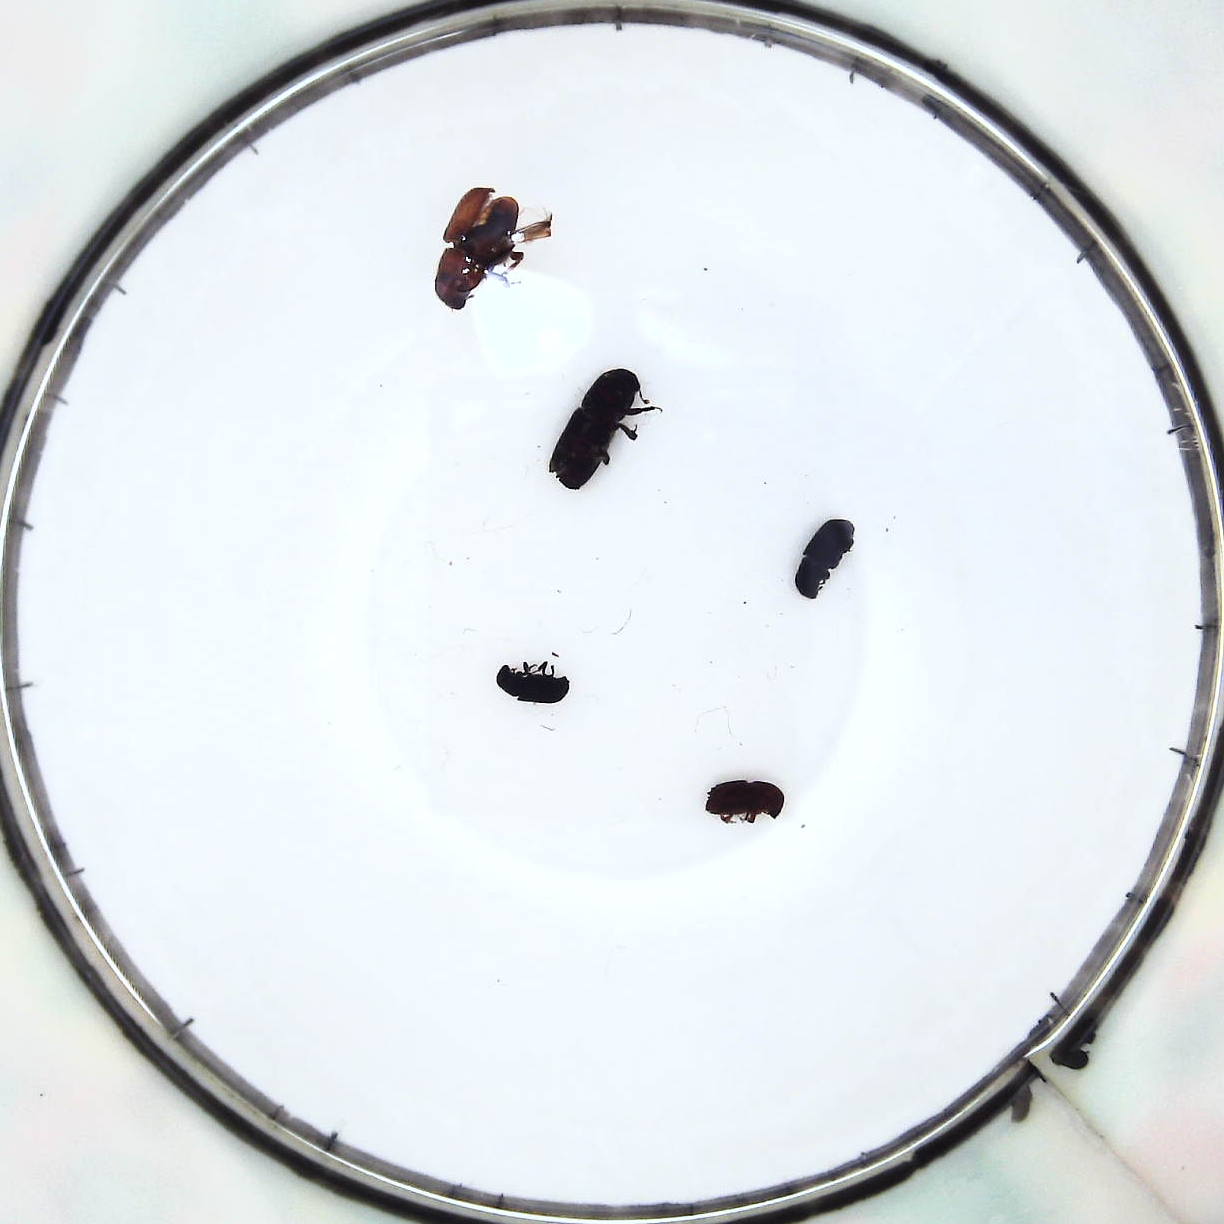Boerner: (551, 370, 647, 494)
Leconte: (432, 182, 549, 304)
Linnaeus: (708, 775, 779, 828)
armandi: (798, 516, 857, 599)
coleoptera: (498, 660, 574, 711)
